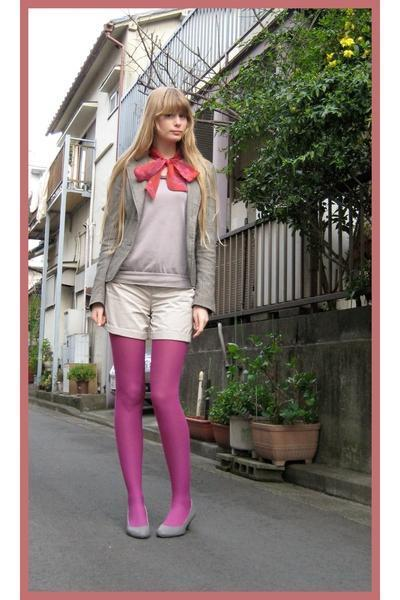jacket: (88, 156, 233, 309)
pants: (109, 332, 192, 534)
shirt: (121, 180, 186, 293)
shorts: (108, 284, 210, 341)
